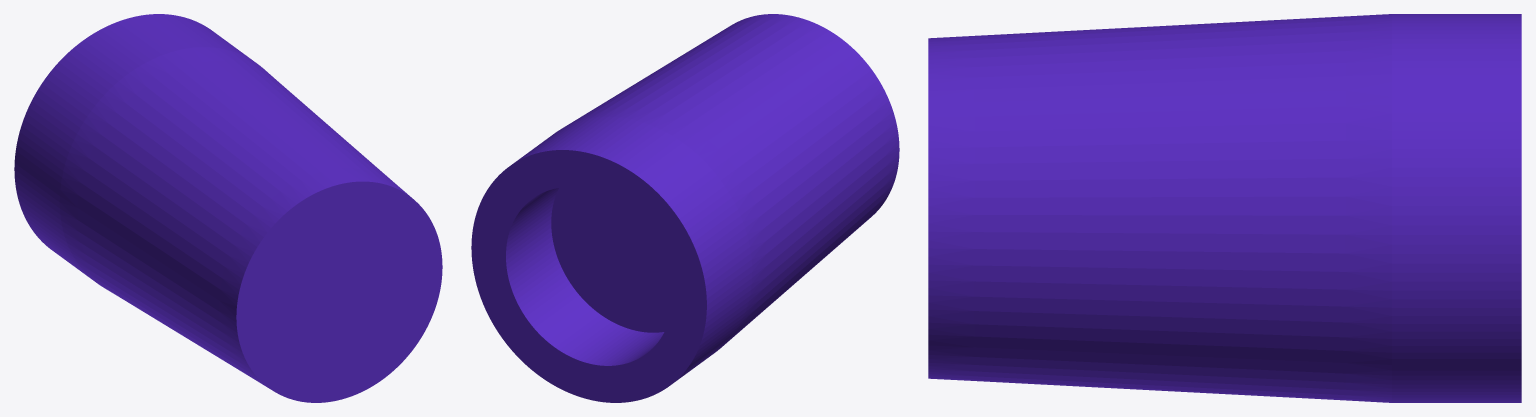
The picture shows the model from 3 angles, left to right: view 1: azimuth 30°, elevation 25°; view 2: azimuth 150°, elevation 25°; view 3: azimuth 270°, elevation 25°; orthographic projection. The views are drawn at different scales.
Visible parts, largest first — view 1: node; view 2: node; view 3: node.
Boxes of the visible parts, <box> form: node: <box>14,14,442,402</box>; node: <box>471,14,899,402</box>; node: <box>928,14,1521,402</box>.
Size of the model in its own units: 0.0839 by 0.0839 by 0.128.
